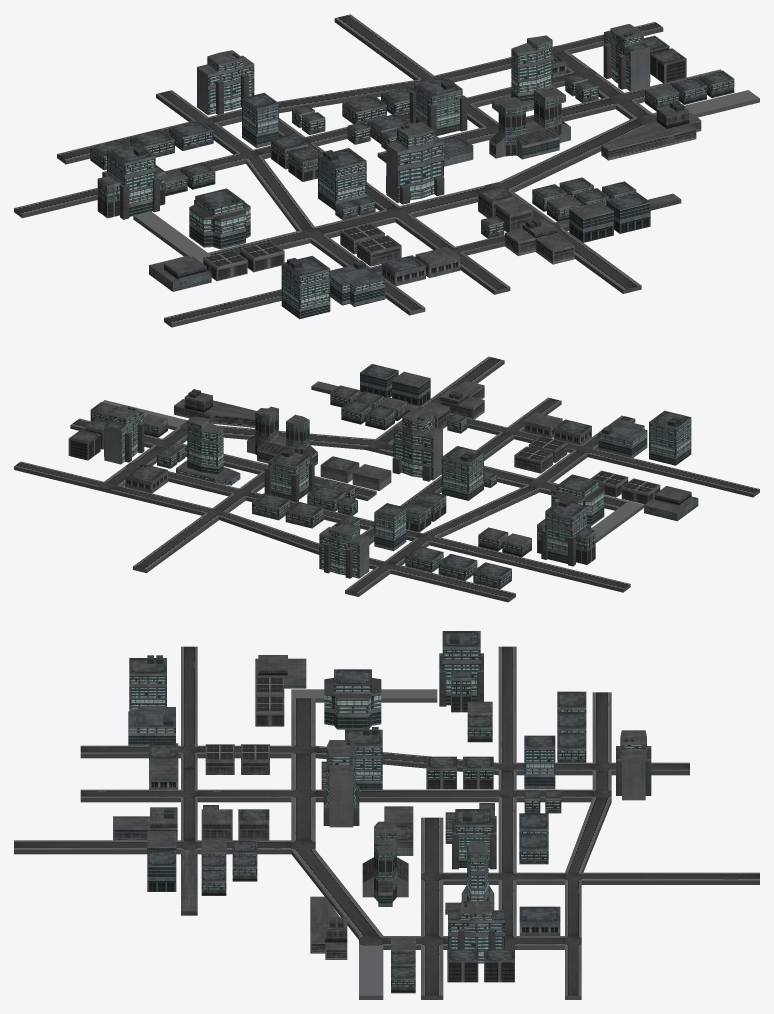
The model's file is City01.fbx.
The picture shows the model from 3 angles, top to bottom: view 1: azimuth 30°, elevation 25°; view 2: azimuth 150°, elevation 25°; view 3: azimuth 270°, elevation 25°; orthographic projection. The views are drawn at different scales.
Parts seen in each view (by area): view 1: City01; view 2: City01; view 3: City01.
Part boxes in pixels (x1=…): City01: x1=14, y1=14, x2=759, y2=327; City01: x1=14, y1=356, x2=759, y2=602; City01: x1=14, y1=631, x2=759, y2=999.
Size of the model in its own units: 2440 by 237 by 2205.
